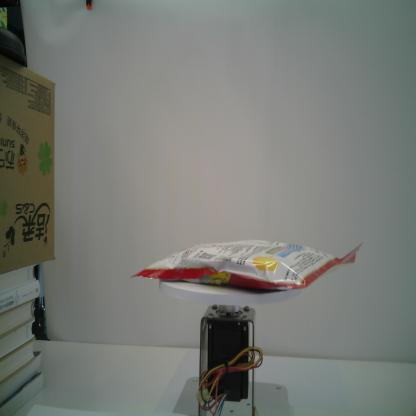Instant Drink: (128, 236, 364, 293)
